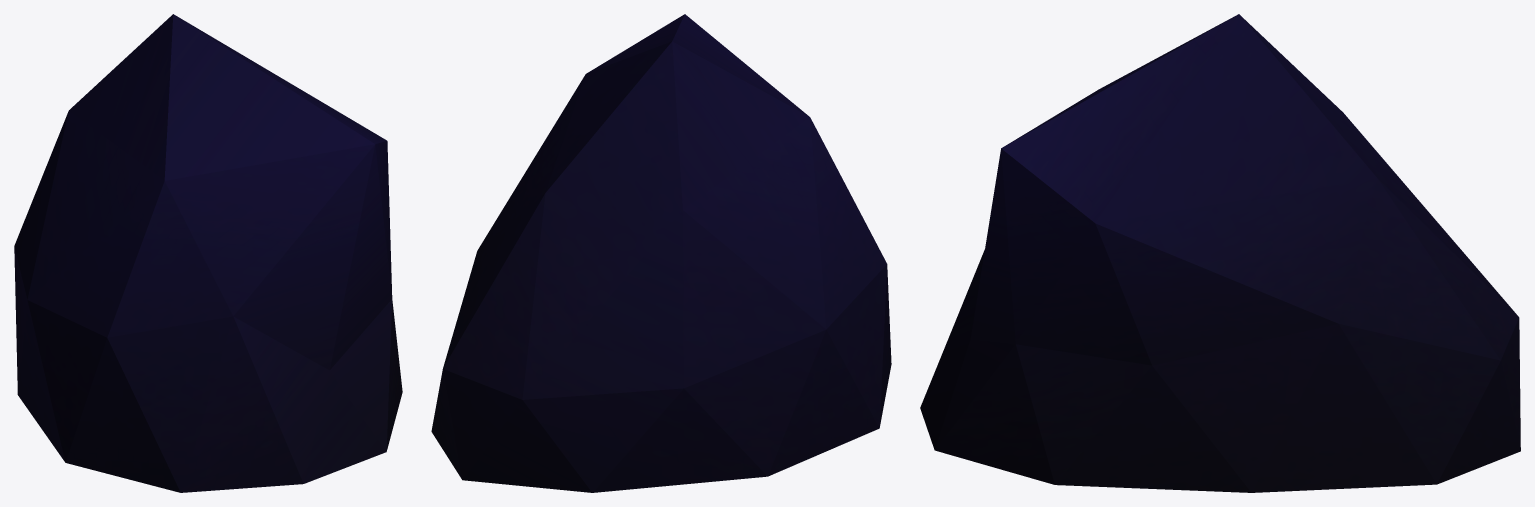
The model's file is SM_Rock02_Var2.fbx.
3 views of the same model, side by side, from view 1: azimuth 30°, elevation 25°; view 2: azimuth 150°, elevation 25°; view 3: azimuth 270°, elevation 25° (orthographic). The views are drawn at different scales.
Visible parts, largest first — view 1: Icosphere.002; view 2: Icosphere.002; view 3: Icosphere.002.
Boxes of the visible parts, x1,y1,x2,y2 form: Icosphere.002: (14, 14, 402, 492); Icosphere.002: (431, 14, 891, 492); Icosphere.002: (920, 14, 1520, 492).
Bounding box in the file's own units: 354 × 388 × 506.
